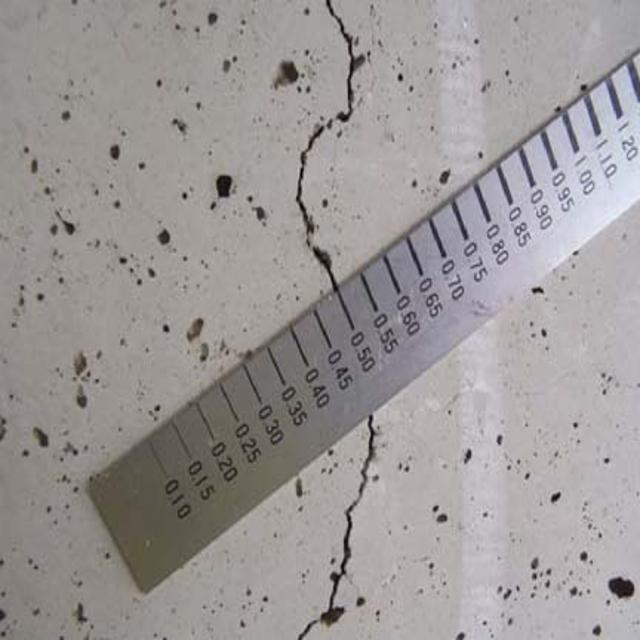crack: (288, 3, 373, 291), (310, 409, 401, 634)
